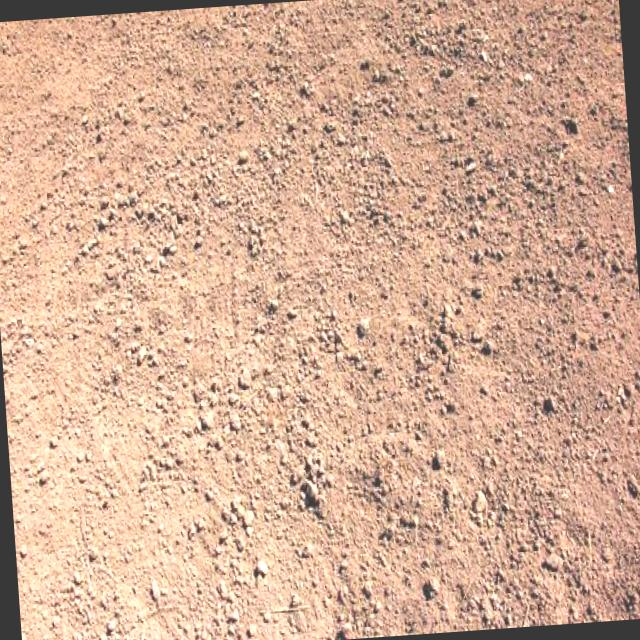suelo_seco: (156, 77, 448, 558)
